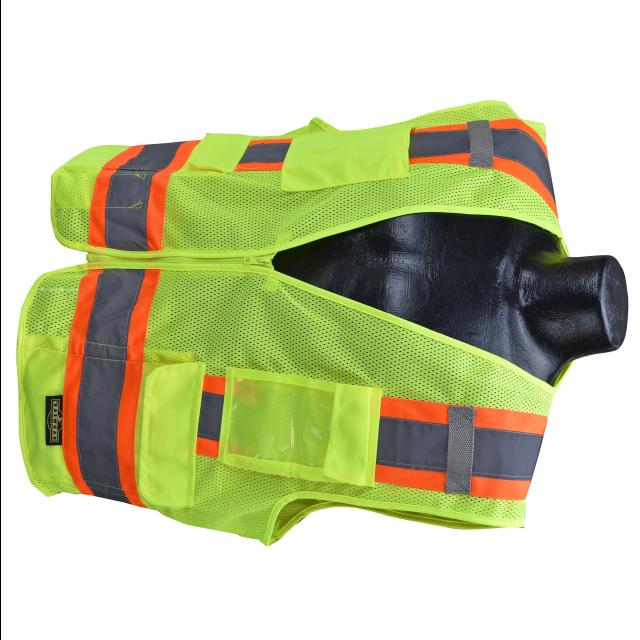jacket: (26, 95, 558, 574)
